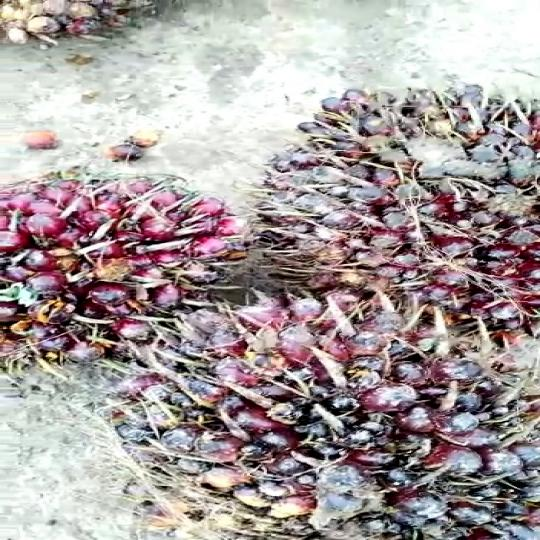kurang masak: (111, 291, 540, 540), (265, 81, 540, 347), (0, 172, 244, 338)
